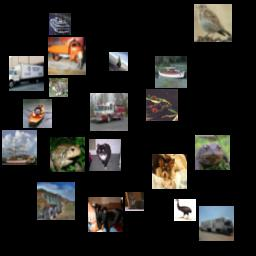airplane: (109, 52, 128, 71)
bird: (194, 4, 232, 42), (174, 199, 196, 221)
cat: (89, 139, 121, 171), (49, 78, 68, 97), (125, 192, 144, 211)
dog: (152, 154, 187, 189), (88, 197, 123, 232)
frog: (195, 135, 230, 170), (50, 137, 85, 172), (146, 89, 178, 121)
ship: (2, 130, 37, 165), (155, 56, 187, 88), (23, 99, 52, 128), (49, 13, 71, 35)
truck: (90, 93, 128, 131), (37, 182, 75, 220), (48, 37, 86, 75), (199, 206, 234, 241), (9, 56, 44, 91)
